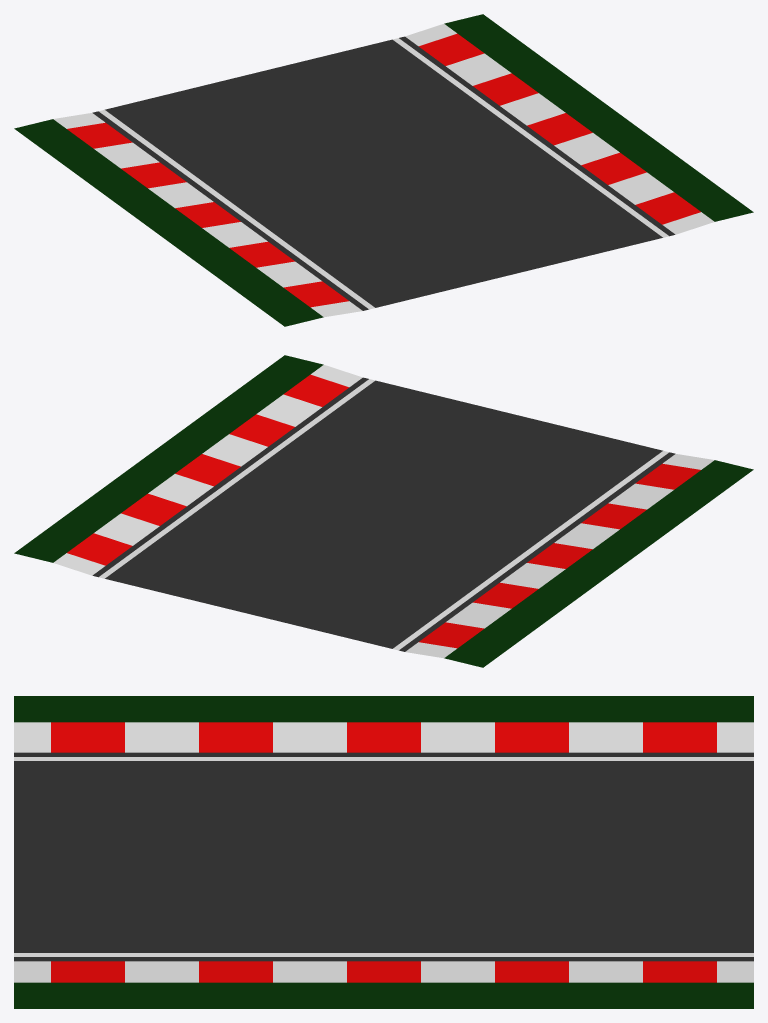
File: ETC0510008.fbx
3 renders of one model, top to bottom at view 1: azimuth 30°, elevation 25°; view 2: azimuth 150°, elevation 25°; view 3: azimuth 270°, elevation 25°, orthographic. The views are drawn at different scales.
Visible parts, largest first — view 1: smETC0510008; view 2: smETC0510008; view 3: smETC0510008.
Boxes of the visible parts, x1,y1,x2,y2 form: smETC0510008: (14, 14, 753, 326); smETC0510008: (14, 355, 753, 667); smETC0510008: (14, 696, 753, 1008).
Size of the model in its own units: 1800 by 12 by 1800.
Materials: 1 (1 with a texture image).
